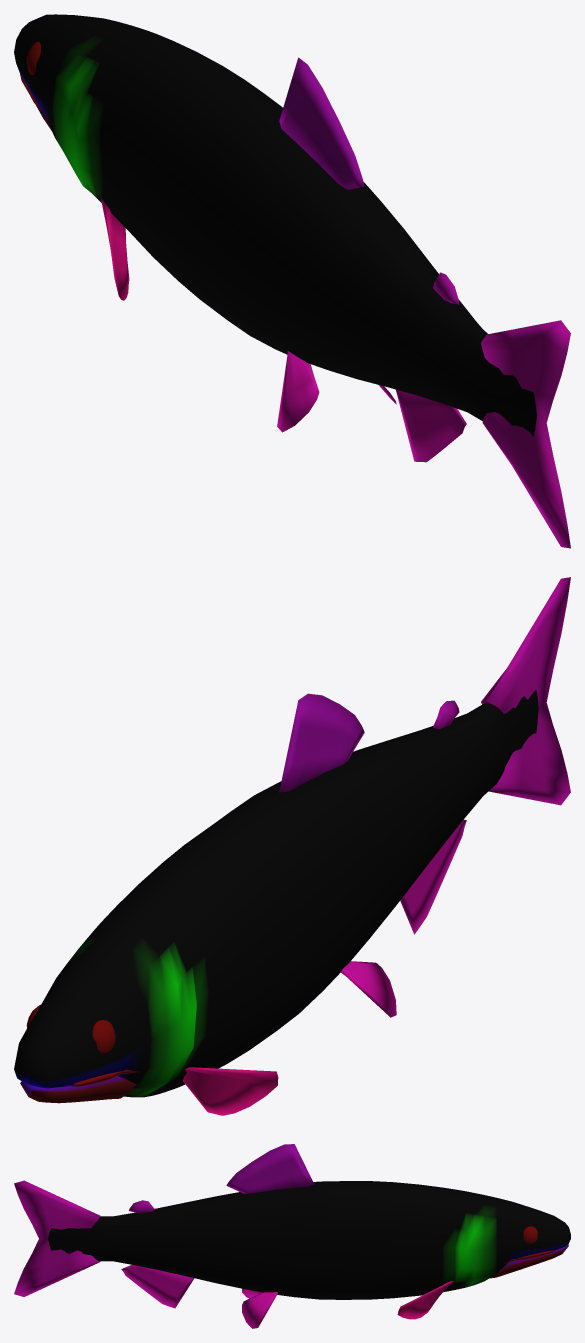
Rendered from sockeye_ocean_game.glb.
3 renders of one model, top to bottom at view 1: azimuth 30°, elevation 25°; view 2: azimuth 150°, elevation 25°; view 3: azimuth 270°, elevation 25°, orthographic. The views are drawn at different scales.
Parts seen in each view (by area): view 1: sockeye_ocean_game; view 2: sockeye_ocean_game; view 3: sockeye_ocean_game.
Boxes of the visible parts, left/top/right/bottom form: sockeye_ocean_game: left=14, top=14, right=570, bottom=548; sockeye_ocean_game: left=14, top=577, right=570, bottom=1115; sockeye_ocean_game: left=14, top=1144, right=570, bottom=1328.
Bounding box in the file's own units: 0.1033 × 0.2015 × 0.5968.
